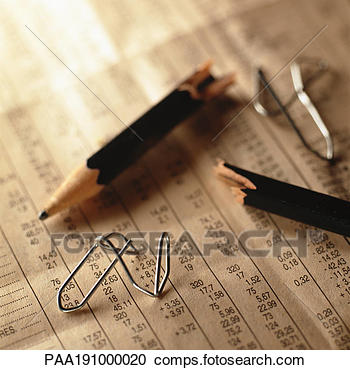pen_tip: (30, 156, 112, 226)
